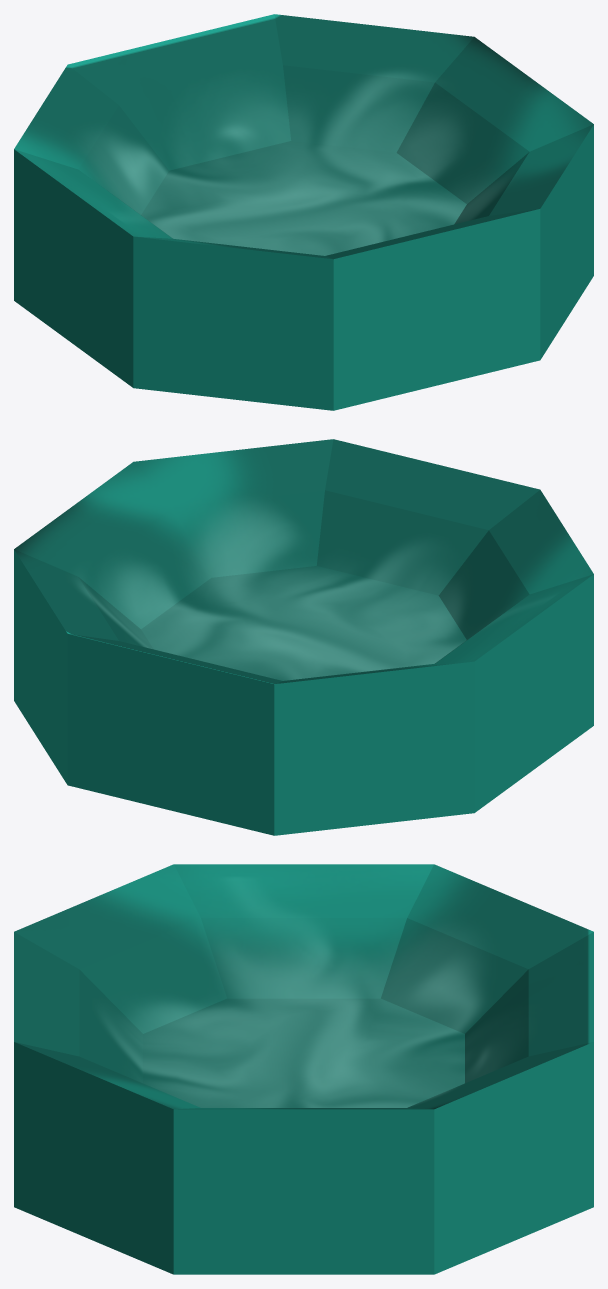
Rendered from ashtray.glb.
3 views of the same model, one above another, from view 1: azimuth 30°, elevation 25°; view 2: azimuth 150°, elevation 25°; view 3: azimuth 270°, elevation 25° (orthographic). The views are drawn at different scales.
Parts seen in each view (by area): view 1: Cube; view 2: Cube; view 3: Cube.
Part boxes in pixels (left/top/right/bottom): Cube: left=14, top=14, right=593, bottom=410; Cube: left=14, top=439, right=593, bottom=835; Cube: left=14, top=864, right=593, bottom=1274.
Size of the model in its own units: 2 by 0.6291 by 2.
1 material, 1 textured.
